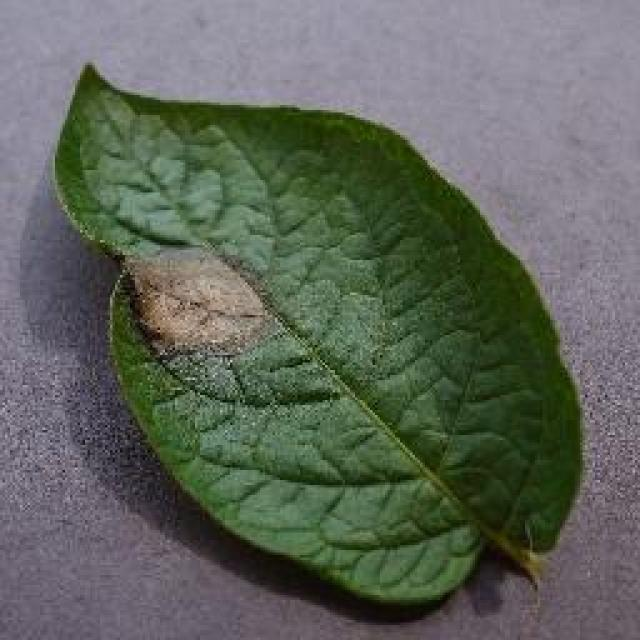Potato: (50, 58, 585, 608)
